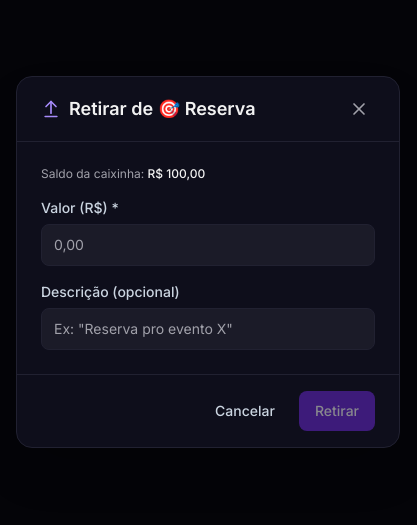
Test case: OperacaoCaixinhaModal — retirada › cancelar a oferta mantém o modal sem confirmar
The image size is (417, 525).
Type "150" into the field with placeholder "0,00".
click(208, 245); type("150")  # box [41,224,375,266]
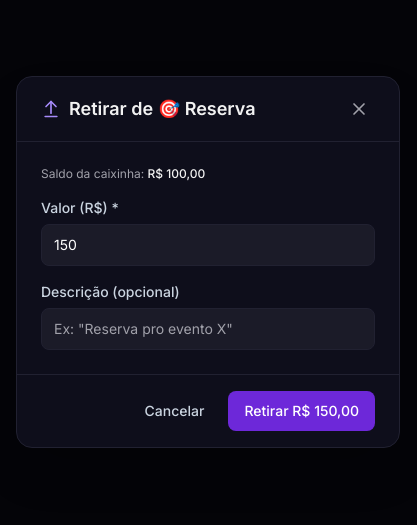
Click the button "Retirar R$ 150,00".
click(302, 411)  # box [228,391,375,431]
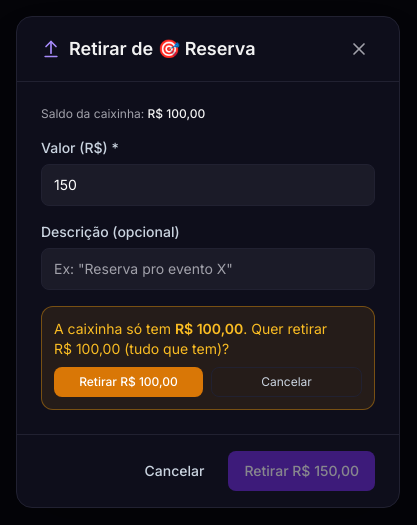
Click the button "Cancelar" below "(tudo que tem)?".
click(286, 382)  # box [211,367,362,397]
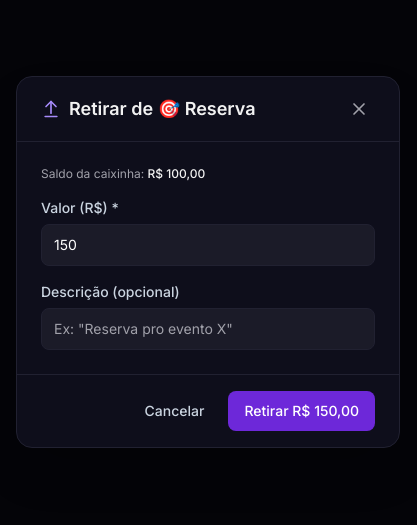
Check: the message is gone
